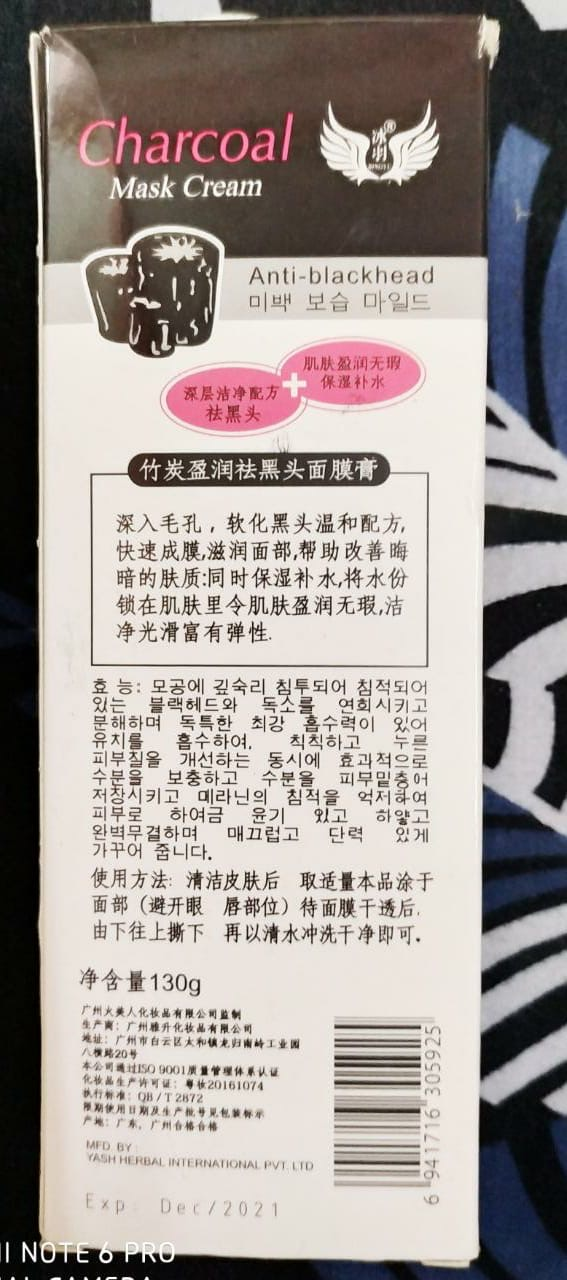barcode: (318, 1014, 445, 1210)
